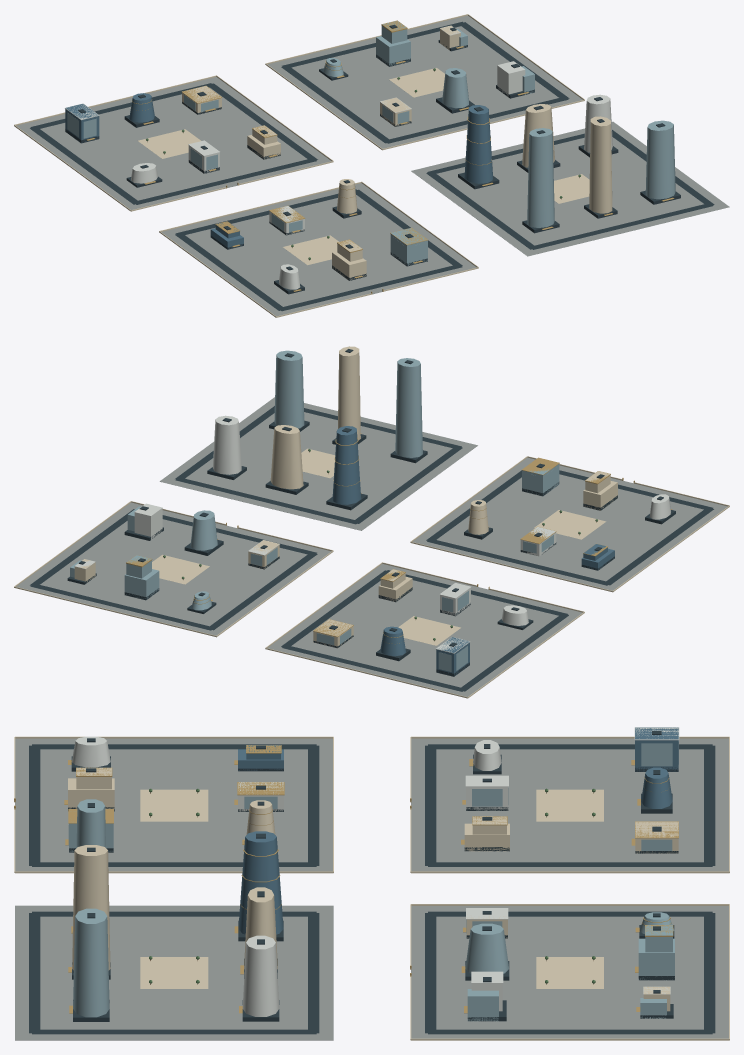
File: GC-TILE-14-08.glb
The picture shows the model from 3 angles, top to bottom: view 1: azimuth 30°, elevation 25°; view 2: azimuth 150°, elevation 25°; view 3: azimuth 270°, elevation 25°; orthographic projection. The views are drawn at different scales.
Parts seen in each view (by area): view 1: GC-TILE-14-08-paving, GC-TILE-14-08-dark, GC-TILE-14-08-ivory, GC-TILE-14-08-glass, GC-TILE-14-08-white, GC-TILE-14-08-blue, GC-TILE-14-08-gold; view 2: GC-TILE-14-08-paving, GC-TILE-14-08-dark, GC-TILE-14-08-ivory, GC-TILE-14-08-glass, GC-TILE-14-08-white, GC-TILE-14-08-blue, GC-TILE-14-08-gold; view 3: GC-TILE-14-08-paving, GC-TILE-14-08-dark, GC-TILE-14-08-ivory, GC-TILE-14-08-glass, GC-TILE-14-08-white, GC-TILE-14-08-blue, GC-TILE-14-08-gold.
Part boxes in pixels (bbox=[...]): GC-TILE-14-08-paving: bbox=[16, 15, 729, 316]; GC-TILE-14-08-dark: bbox=[30, 21, 714, 311]; GC-TILE-14-08-ivory: bbox=[14, 14, 612, 317]; GC-TILE-14-08-glass: bbox=[67, 21, 675, 265]; GC-TILE-14-08-white: bbox=[65, 25, 612, 289]; GC-TILE-14-08-blue: bbox=[65, 93, 492, 248]; GC-TILE-14-08-gold: bbox=[86, 20, 674, 294]; GC-TILE-14-08-paving: bbox=[16, 397, 727, 696]; GC-TILE-14-08-dark: bbox=[30, 349, 713, 691]; GC-TILE-14-08-ivory: bbox=[14, 346, 729, 698]; GC-TILE-14-08-glass: bbox=[70, 350, 559, 671]; GC-TILE-14-08-white: bbox=[74, 415, 670, 653]; GC-TILE-14-08-blue: bbox=[332, 426, 614, 675]; GC-TILE-14-08-gold: bbox=[126, 433, 671, 644]; GC-TILE-14-08-paving: bbox=[15, 738, 728, 1040]; GC-TILE-14-08-dark: bbox=[29, 731, 715, 1034]; GC-TILE-14-08-ivory: bbox=[14, 736, 729, 1040]; GC-TILE-14-08-glass: bbox=[68, 740, 678, 1021]; GC-TILE-14-08-white: bbox=[71, 727, 679, 1016]; GC-TILE-14-08-blue: bbox=[238, 727, 678, 934]; GC-TILE-14-08-gold: bbox=[14, 745, 678, 1013].
Size of the model in its own units: 759 by 150 by 760.
